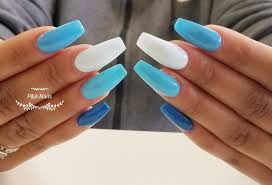nail: (135, 32, 189, 70), (73, 36, 127, 72), (131, 60, 180, 98), (173, 17, 221, 52), (39, 19, 85, 55), (82, 64, 127, 100), (159, 101, 193, 133), (76, 102, 110, 129)
